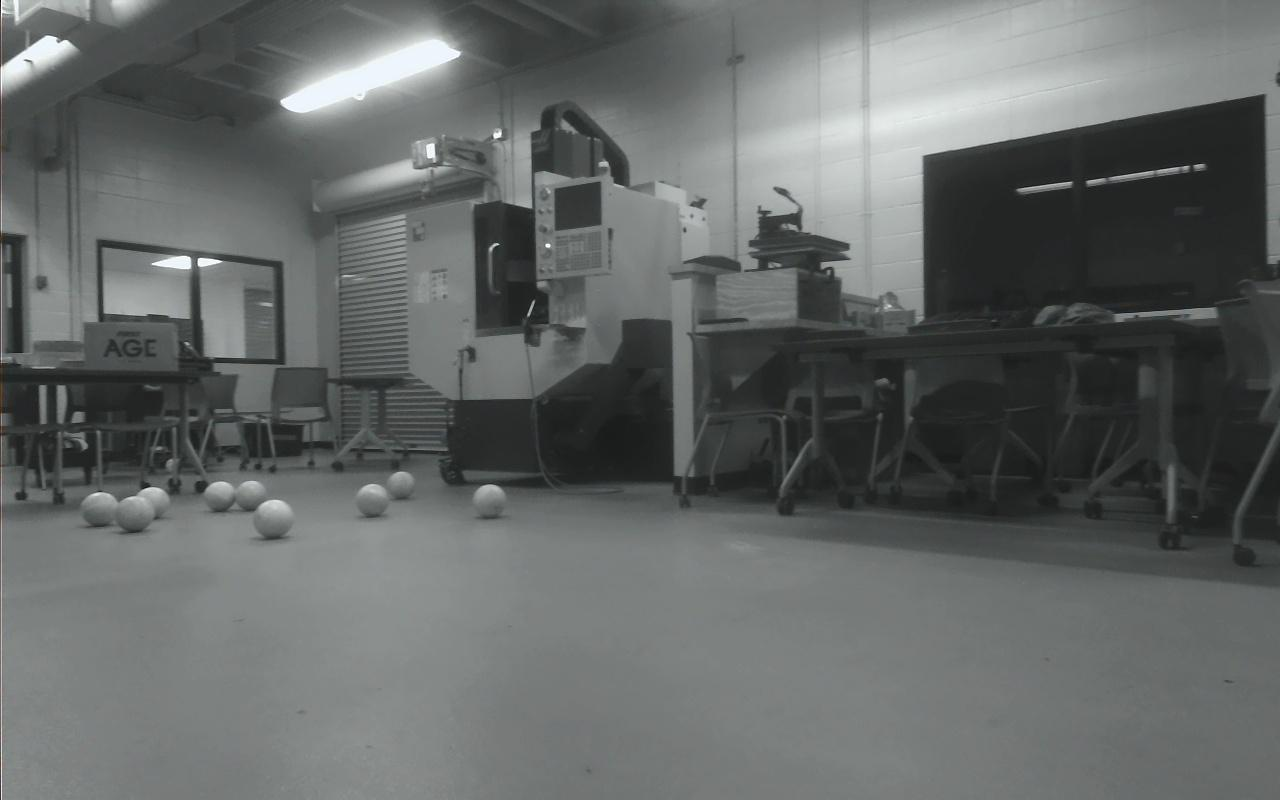Fuel: (253, 499, 293, 538), (116, 495, 155, 534), (81, 491, 118, 528), (136, 486, 172, 520), (472, 484, 507, 518), (356, 484, 389, 517), (204, 481, 236, 512), (234, 480, 266, 511), (385, 470, 416, 499)
